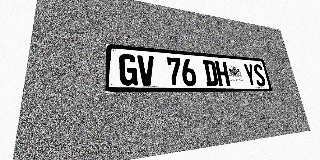6: (180, 58, 197, 86)
7: (166, 57, 183, 86)
D: (203, 60, 219, 86)
G: (119, 53, 138, 86)
H: (215, 61, 230, 86)
S: (252, 64, 267, 86)
V: (137, 55, 155, 86)
Y: (243, 63, 257, 86)
